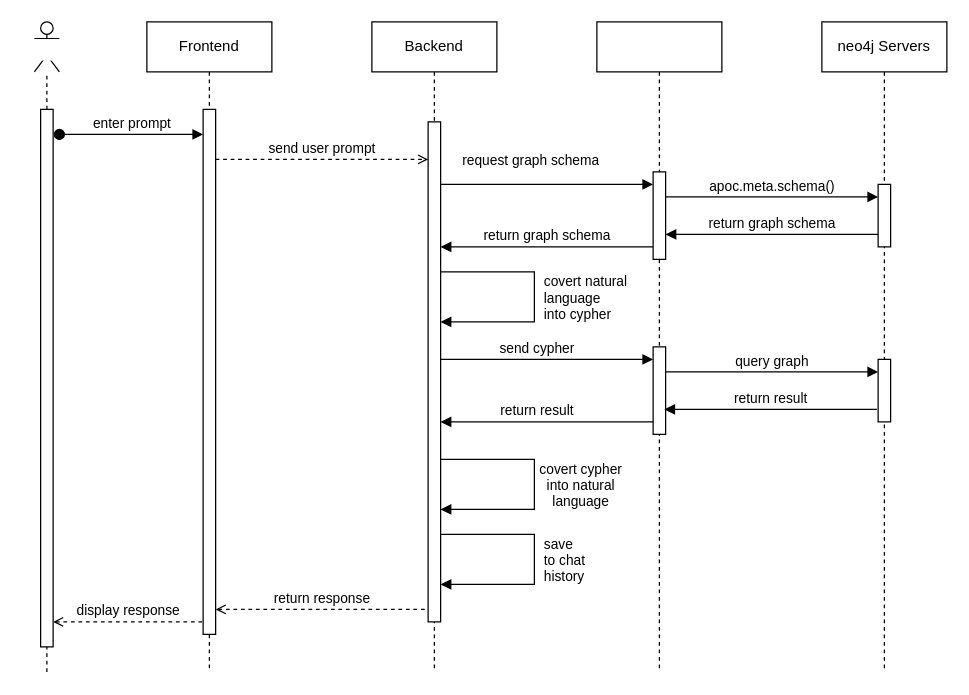
This 969x695 diagram has some shape labels left out. The centre of each missing label's shape, as x and y in pixels:
"MCP Server" goes at (x=659, y=346).
"User" goes at (x=46, y=49).
